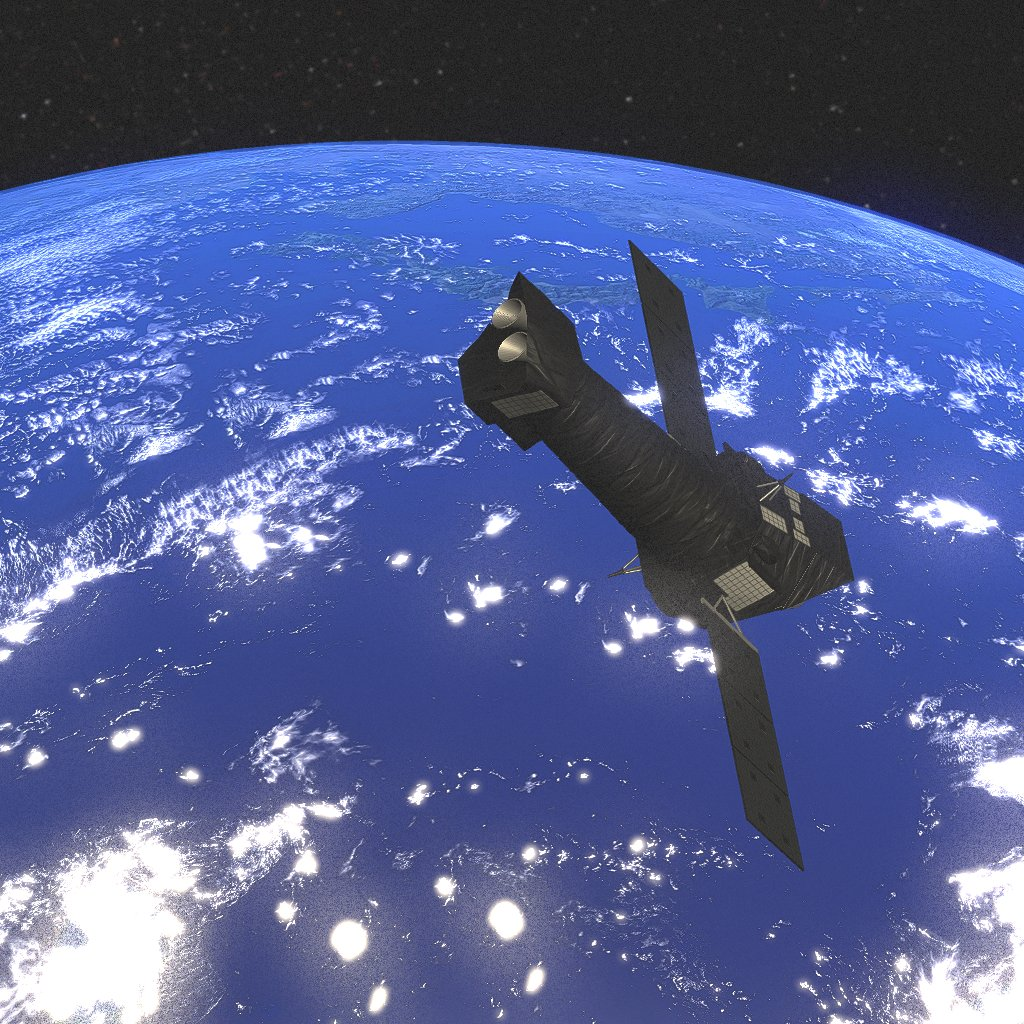xmm_newton: (458, 240, 854, 871)
